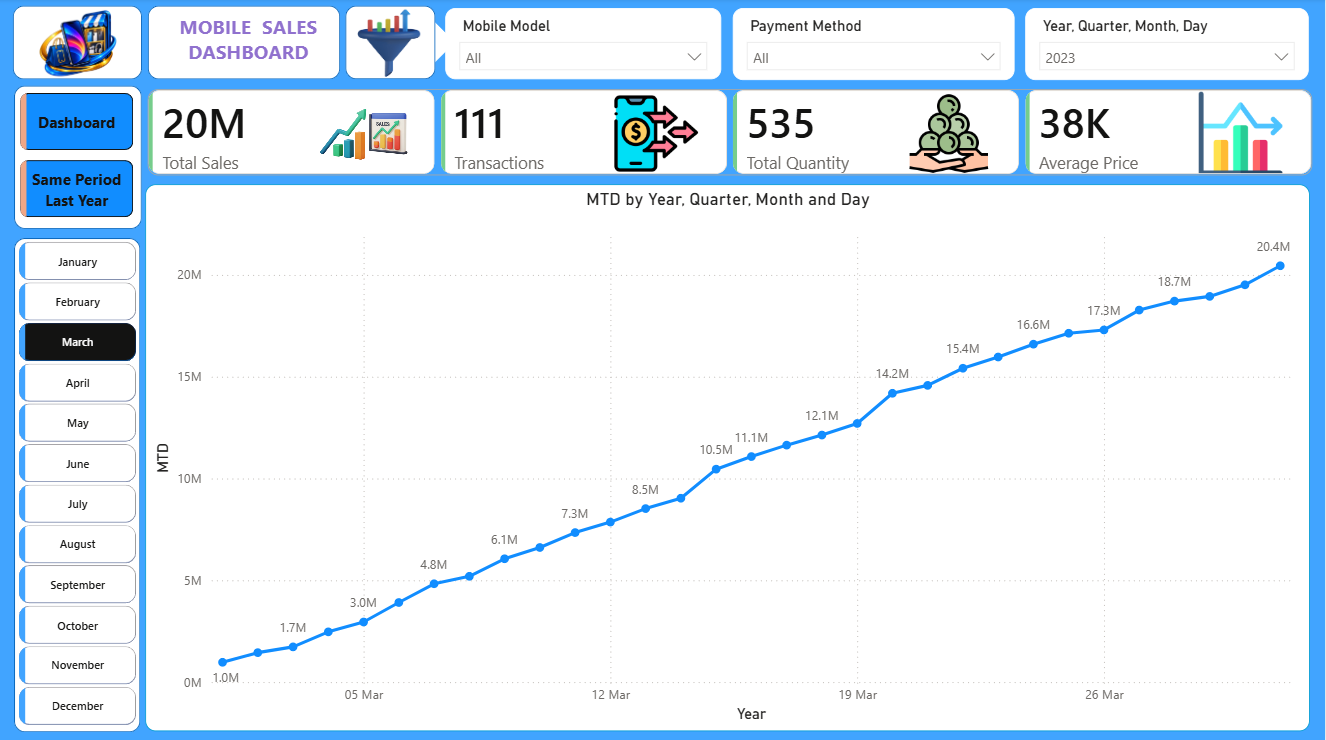

This screenshot's page, from the dashboard's own definition file:
{"tool":"powerbi","page":{"name":"MTD","canvas":[1280,720],"ordinal":1},"visuals":[{"type":"shape","box":[376.6,13.5,64,58.9],"z":0},{"type":"shape","box":[13.3,7,124.8,71.4],"z":1000},{"type":"slicer","title":"Mobile Brand","fields":{"Values":["Sales_data.Mobile Model"]},"box":[431,9.4,266.8,68.5],"z":2000},{"type":"image","box":[22.7,120.4,118.5,63.1],"z":3000},{"type":"slicer","title":"Mobile Brand","fields":{"Values":["Sales_data.Payment Method"]},"box":[708.6,9.4,272.2,69.9],"z":4000},{"type":"shape","box":[14.8,84.1,123.4,138.6],"z":5000},{"type":"slicer","title":"Mobile Brand","fields":{"Values":["Custom_Calender.Date.Variation.Date Hierarchy.Year","Custom_Calender.Date.Variation.Date Hierarchy.Quarter","Custom_Calender.Date.Variation.Date Hierarchy.Month","Custom_Calender.Date.Variation.Date Hierarchy.Day"]},"box":[990.4,9.4,273.6,69.9],"z":6000},{"type":"shape","box":[334.4,6.7,87.1,71.3],"z":7000},{"type":"image","box":[330.3,9.4,91.2,68.5],"z":8000},{"type":"shape","box":[143.8,7,185.8,71.4],"z":9000},{"type":"image","box":[19,9.8,113,72.6],"z":10000},{"type":"textbox","box":[131.1,9.8,218.4,70],"z":11000},{"type":"shape","box":[14.8,231.2,122,477.1],"z":12000},{"type":"lineChart","fields":{"Category":["Custom_Calender.Date.Variation.Date Hierarchy.Year","Custom_Calender.Date.Variation.Date Hierarchy.Quarter","Custom_Calender.Date.Variation.Date Hierarchy.Month","Custom_Calender.Date.Variation.Date Hierarchy.Day"],"Y":["Sales_data.MTD"]},"box":[141.5,179.8,1123.6,528.3],"z":13000},{"type":"pageNavigator","box":[20.7,91.5,109.2,121.7],"z":14000},{"type":"cardVisual","fields":{"Data":["Sales_data.Total_sales","Sales_data.Transcations","Sales_data.Total_Quantity","Sales_data.Average_price"]},"box":[131.1,75.5,1148.9,107.1],"z":15000},{"type":"advancedSlicerVisual","fields":{"Values":["Custom_Calender.Date.Variation.Date Hierarchy.Month"]},"box":[14.5,230.3,123.1,486.2],"z":16000}]}

Visuals, with their boxes in screenshot pixels (x1, y1, x2, y2), scaled from the page's 1280x720 canvas onto the 1326x740 screenshot:
shape: [x1=390, y1=14, x2=456, y2=74]
shape: [x1=14, y1=7, x2=143, y2=81]
"Mobile Brand" slicer: [x1=446, y1=10, x2=723, y2=80]
image: [x1=24, y1=124, x2=146, y2=189]
"Mobile Brand" slicer: [x1=734, y1=10, x2=1016, y2=82]
shape: [x1=15, y1=86, x2=143, y2=229]
"Mobile Brand" slicer: [x1=1026, y1=10, x2=1309, y2=82]
shape: [x1=346, y1=7, x2=437, y2=80]
image: [x1=342, y1=10, x2=437, y2=80]
shape: [x1=149, y1=7, x2=341, y2=81]
image: [x1=20, y1=10, x2=137, y2=85]
textbox: [x1=136, y1=10, x2=362, y2=82]
shape: [x1=15, y1=238, x2=142, y2=728]
lineChart - Custom_Calender.Date.Variation.Date Hierarchy.Year x Custom_Calender.Date.Variation.Date Hierarchy.Quarter: [x1=147, y1=185, x2=1311, y2=728]
pageNavigator: [x1=21, y1=94, x2=135, y2=219]
cardVisual - Sales_data.Total_sales x Sales_data.Transcations: [x1=136, y1=78, x2=1325, y2=188]
advancedSlicerVisual - Custom_Calender.Date.Variation.Date Hierarchy.Month: [x1=15, y1=237, x2=143, y2=736]
